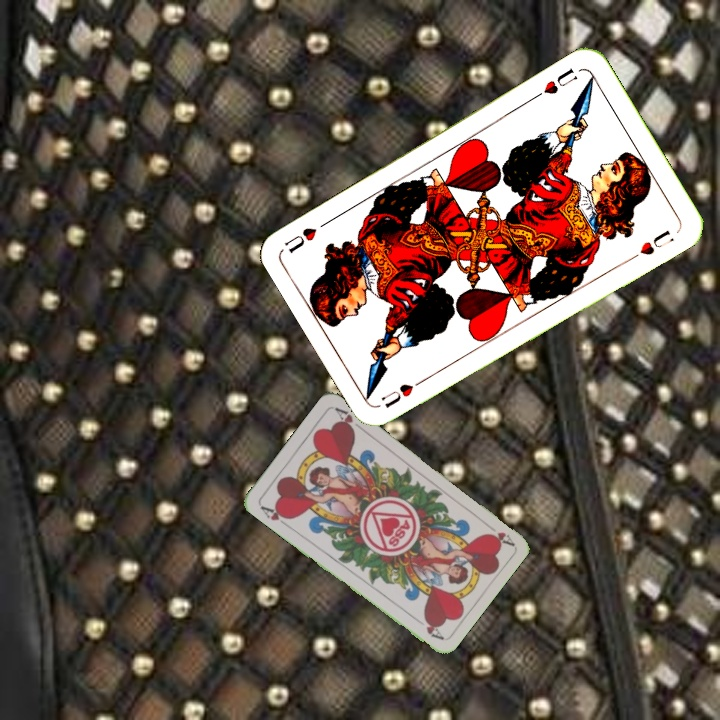HA: (256, 501, 293, 530), (480, 519, 516, 548)
HU: (377, 373, 430, 411), (530, 64, 580, 102)
